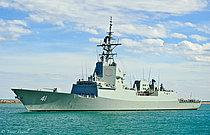MIL_Ship: (11, 15, 205, 113)
